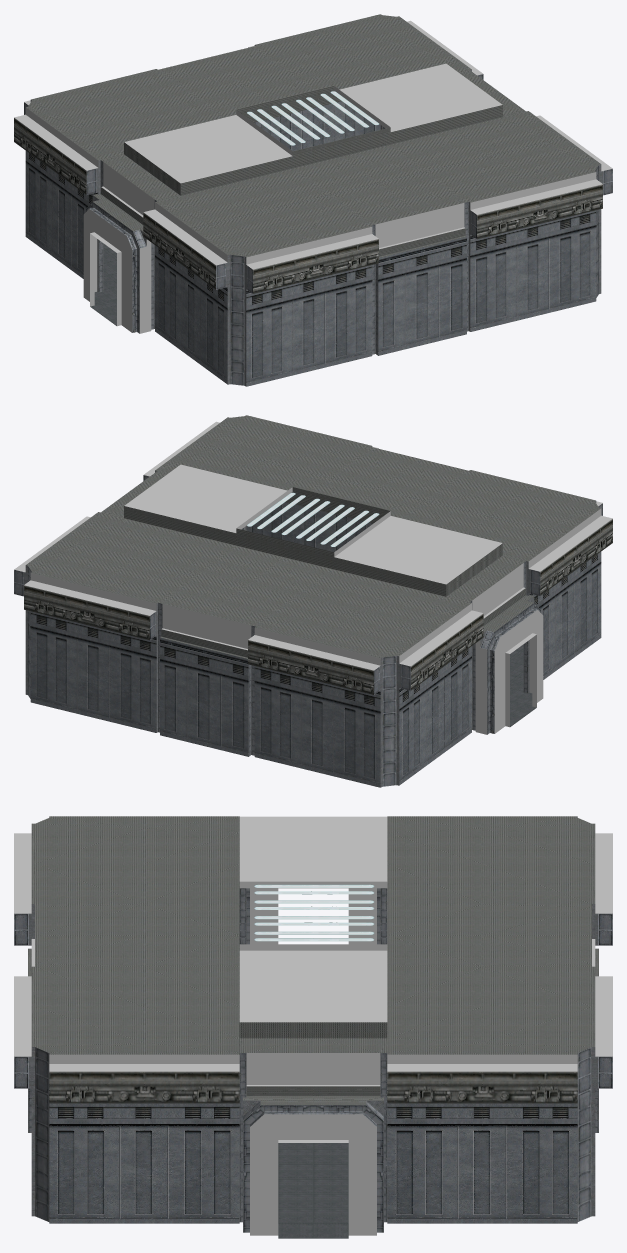
The model's file is poi_all_impl_bunker_warren_s01_r46_smallroom_mesh_r46.fbx.
3 renders of one model, top to bottom at view 1: azimuth 30°, elevation 25°; view 2: azimuth 150°, elevation 25°; view 3: azimuth 270°, elevation 25°, orthographic. The views are drawn at different scales.
Parts seen in each view (by area): view 1: mesh_node; view 2: mesh_node; view 3: mesh_node.
Part boxes in pixels (x1,y1,x2,y2): mesh_node: (14,14,612,386); mesh_node: (14,415,612,787); mesh_node: (14,816,612,1238).
Size of the model in its own units: 18 by 6 by 17.
